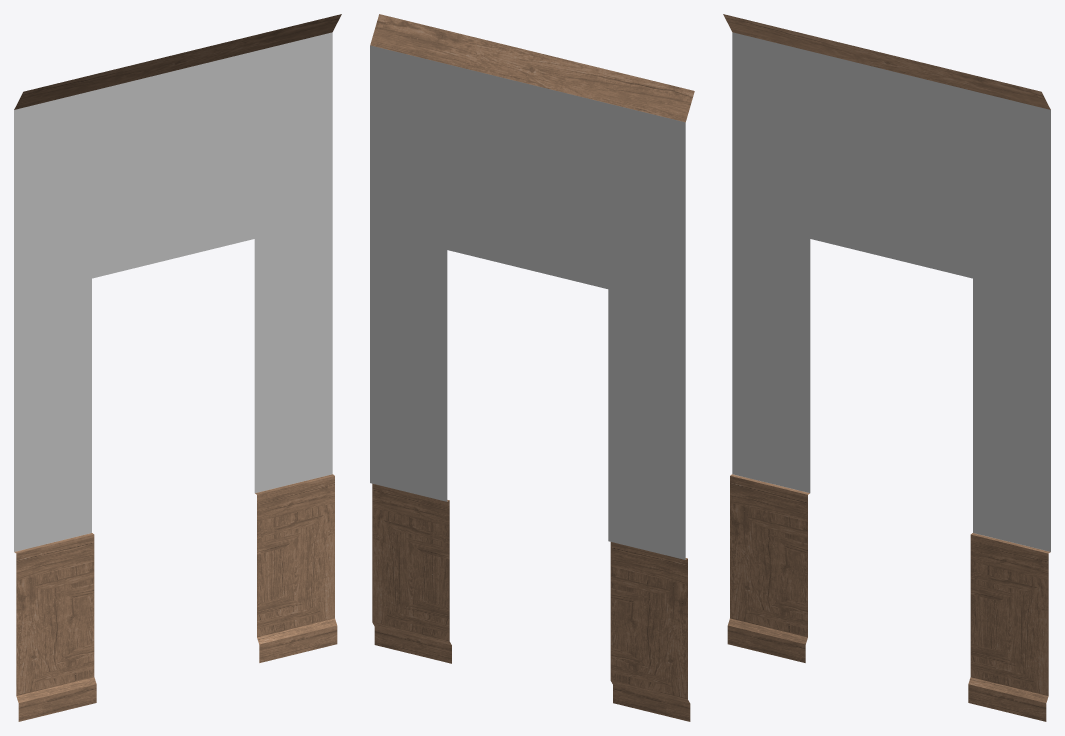
File: WallInt1Door1A.fbx
3 renders of one model, left to right at view 1: azimuth 30°, elevation 25°; view 2: azimuth 150°, elevation 25°; view 3: azimuth 330°, elevation 25°, orthographic.
Parts seen in each view (by area): view 1: WallInt1Door1A; view 2: WallInt1Door1A; view 3: WallInt1Door1A.
Part boxes in pixels (x1,y1,x2,y2): WallInt1Door1A: [14, 14, 341, 721]; WallInt1Door1A: [370, 14, 694, 721]; WallInt1Door1A: [723, 14, 1050, 721].
Bounding box in the file's own units: 200 × 380 × 10.
